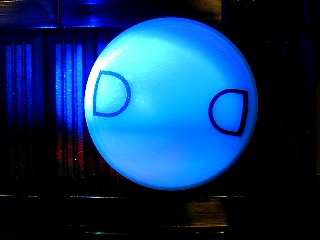MIPO2: (84, 16, 259, 191)
